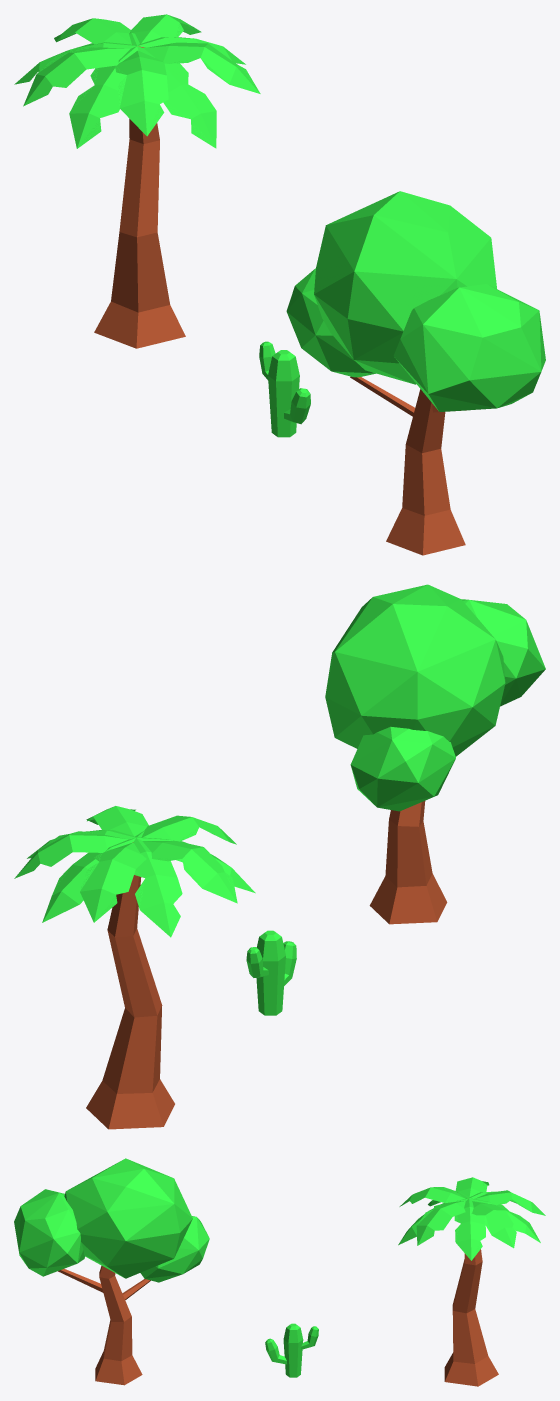
The model's file is tree.fbx.
3 renders of one model, top to bottom at view 1: azimuth 30°, elevation 25°; view 2: azimuth 150°, elevation 25°; view 3: azimuth 270°, elevation 25°, orthographic. The views are drawn at different scales.
Visible parts, largest first — view 1: agac, palmiye, kaktus; view 2: agac, palmiye, kaktus; view 3: agac, palmiye, kaktus.
Boxes of the visible parts, left/top/right/bottom form: agac: left=286, top=191, right=545, bottom=555; palmiye: left=14, top=14, right=260, bottom=348; kaktus: left=259, top=341, right=310, bottom=437; agac: left=325, top=584, right=545, bottom=924; palmiye: left=14, top=806, right=255, bottom=1129; kaktus: left=246, top=930, right=296, bottom=1015; agac: left=14, top=1158, right=209, bottom=1385; palmiye: left=398, top=1177, right=545, bottom=1386; kaktus: left=265, top=1323, right=318, bottom=1377.
Bounding box in the file's own units: 370 × 531 × 1253.
